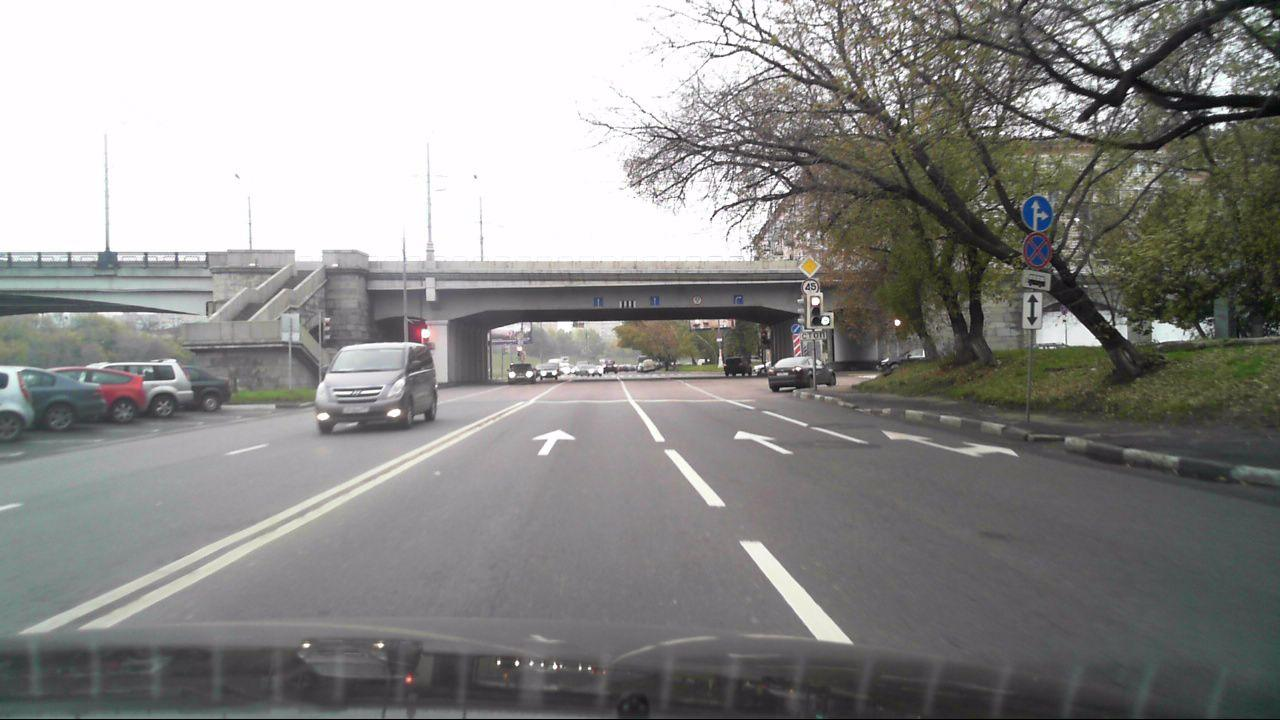2_1: (797, 257, 822, 279)
3_13: (801, 279, 820, 297), (690, 292, 703, 307)
3_27: (1020, 232, 1053, 268)
4_1_4: (1022, 195, 1054, 229)
4_2_2: (790, 324, 801, 334)
5_15_2: (592, 296, 604, 307), (650, 295, 661, 306), (734, 294, 744, 305)
6_16: (801, 331, 828, 340)
8_22_2: (793, 334, 800, 358)
8_2_4: (1021, 291, 1042, 329)
8_4_4: (1022, 269, 1052, 290)
